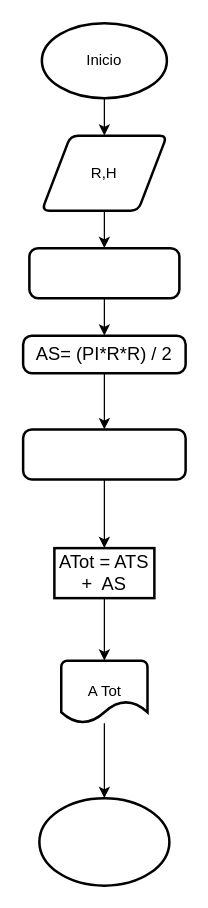
Some shapes in this 208 by 908 pixel diagram are drawn without their labels. The centre of each missing label's shape, as x and y in pixels:
"ATS = 2*(R*C) /2" belongs at (x=103, y=454).
"C= SQRT (H*H-R*R)" belongs at (x=104, y=272).
"Fin" belongs at (x=104, y=841).
